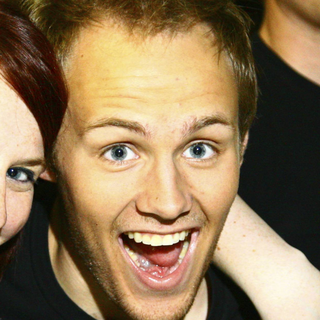eye: (96, 139, 144, 166), (177, 138, 222, 164), (3, 162, 41, 188)
